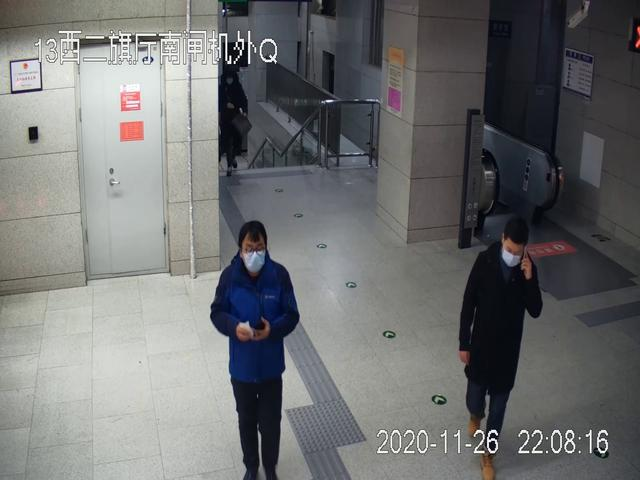person: (210, 220, 300, 480), (459, 218, 543, 480), (219, 67, 248, 175)
